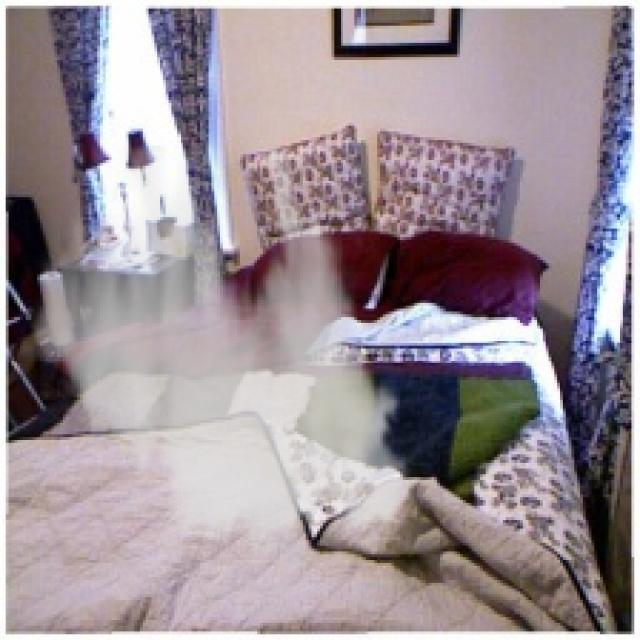Smoke: (20, 146, 429, 563)
